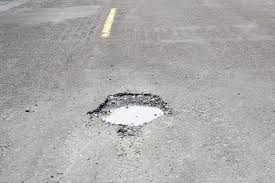Pothole: (84, 87, 178, 136)
